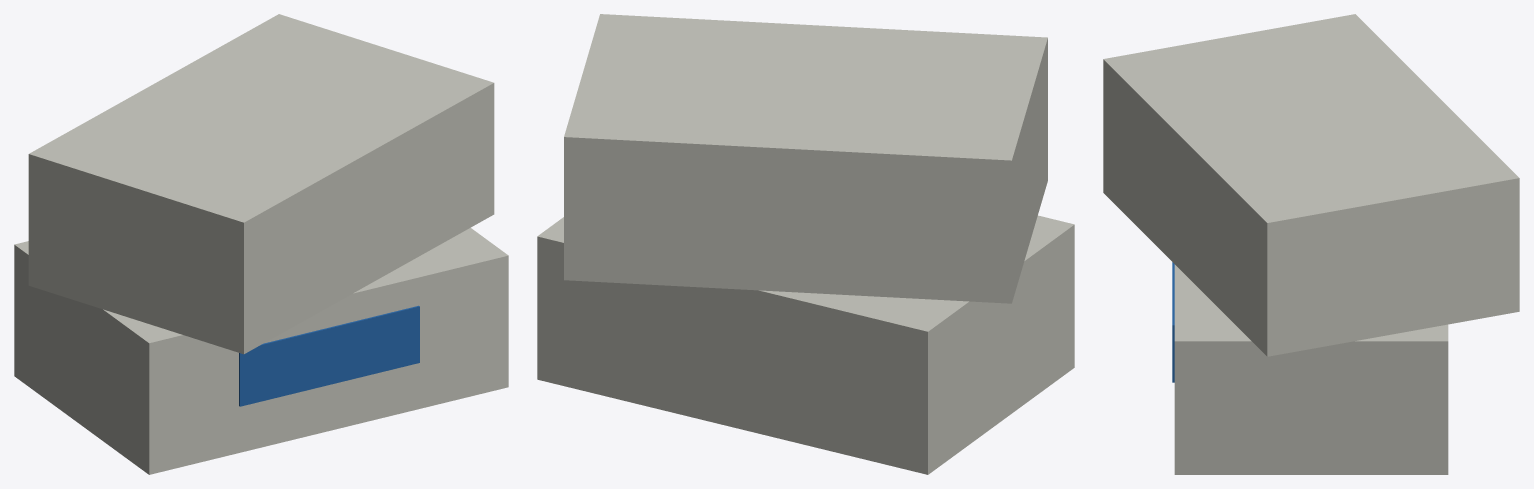
The model's file is material_cement.glb.
The picture shows the model from 3 angles, left to right: view 1: azimuth 30°, elevation 25°; view 2: azimuth 150°, elevation 25°; view 3: azimuth 270°, elevation 25°; orthographic projection. The views are drawn at different scales.
Size of the model in its own units: 0.4697 by 0.28 by 0.3952.
